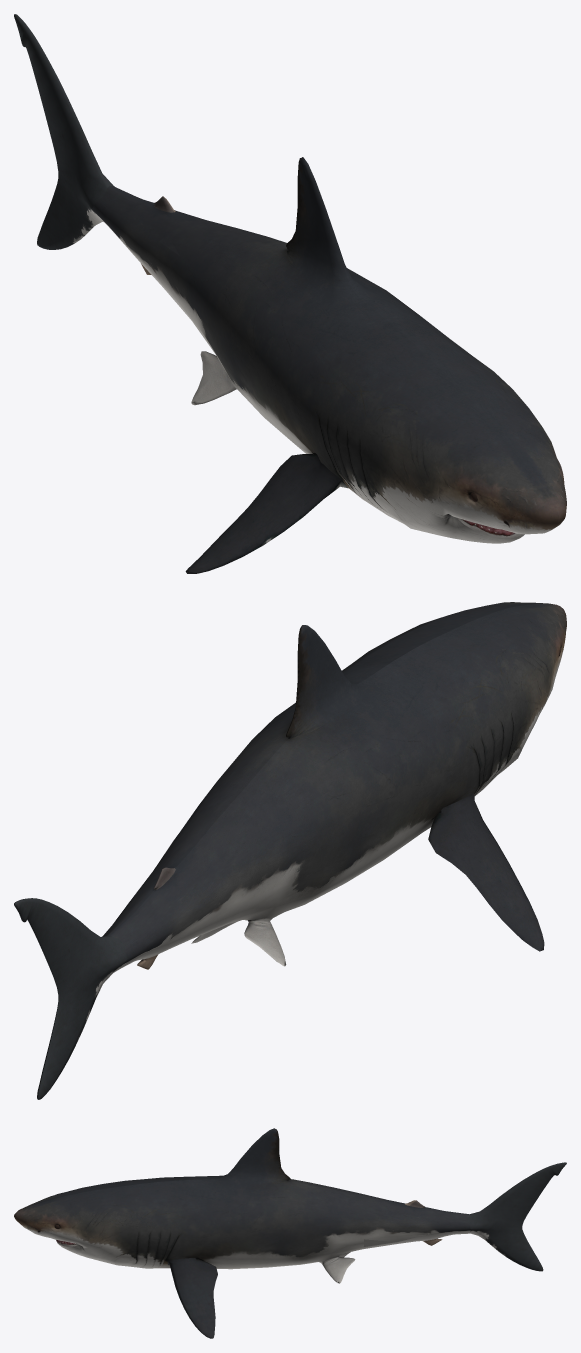
Rendered from Megalodon.obj.
The picture shows the model from 3 angles, top to bottom: view 1: azimuth 30°, elevation 25°; view 2: azimuth 150°, elevation 25°; view 3: azimuth 270°, elevation 25°; orthographic projection. The views are drawn at different scales.
Visible parts, largest first — view 1: Shark_01SG1; view 2: Shark_01SG1; view 3: Shark_01SG1.
Boxes of the visible parts, <box> form: Shark_01SG1: <box>14,14,566,573</box>; Shark_01SG1: <box>14,602,566,1099</box>; Shark_01SG1: <box>14,1128,566,1338</box>.
Size of the model in its own units: 4.31 by 3.78 by 11.39.
1 material, 1 textured.
